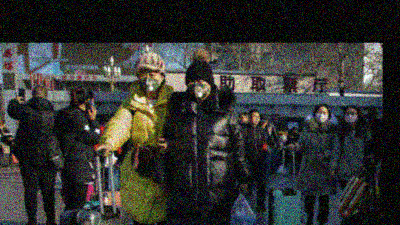with_mask: (137, 71, 162, 93), (188, 77, 210, 100), (314, 109, 328, 123), (344, 110, 358, 124)
without_mask: (249, 114, 260, 125)
